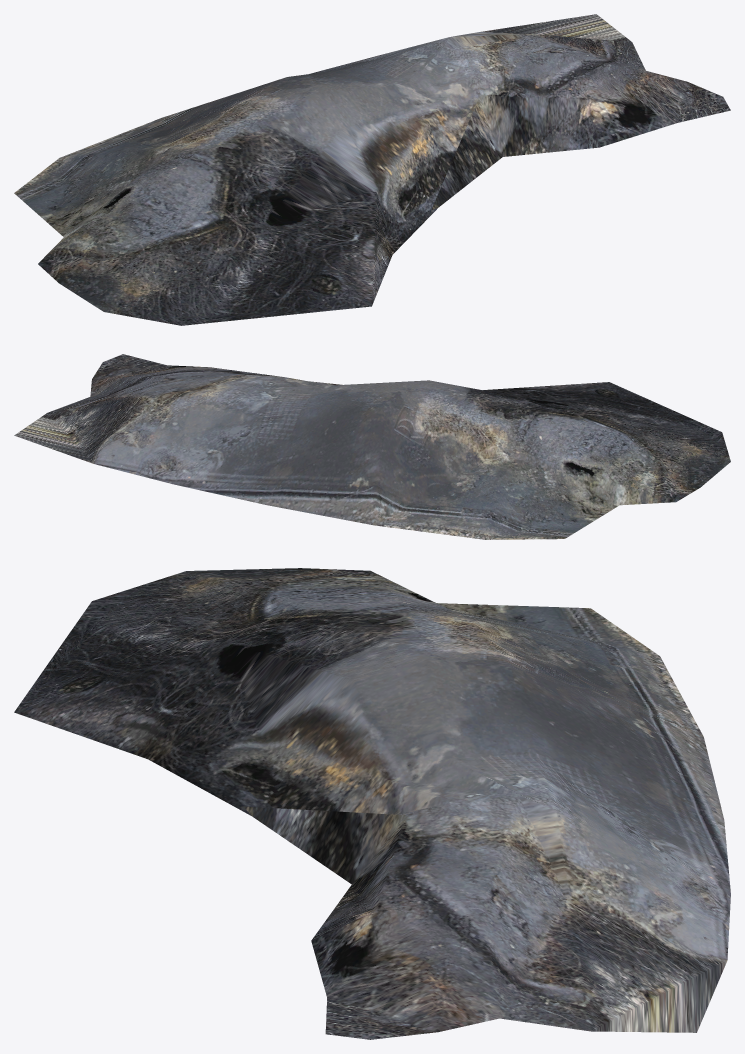
File: rubbish5.obj
The picture shows the model from 3 angles, top to bottom: view 1: azimuth 30°, elevation 25°; view 2: azimuth 150°, elevation 25°; view 3: azimuth 270°, elevation 25°; orthographic projection. The views are drawn at different scales.
Visible parts, largest first — view 1: def_surf_mat; view 2: def_surf_mat; view 3: def_surf_mat.
Part boxes in pixels (x1,y1,x2,y2): def_surf_mat: (14,14,730,325); def_surf_mat: (14,354,730,539); def_surf_mat: (14,568,730,1039).
Bounding box in the file's own units: 48.23 × 5.55 × 30.98.
Materials: 1 (1 with a texture image).
